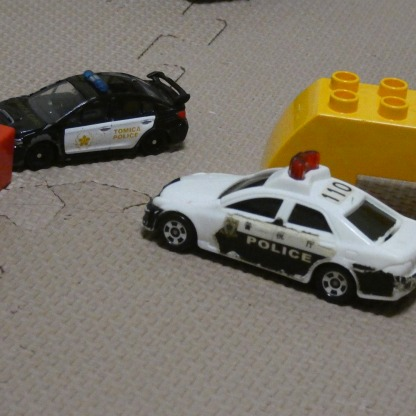car: (141, 159, 416, 312), (0, 67, 191, 164)
